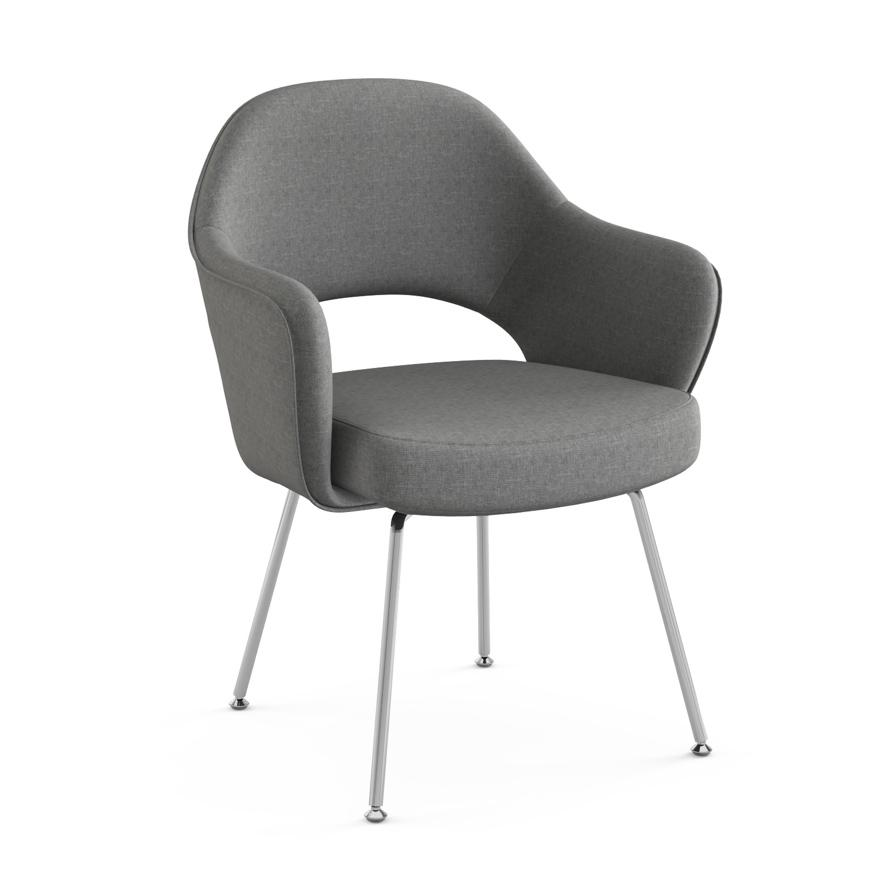chair: (154, 65, 806, 852)
